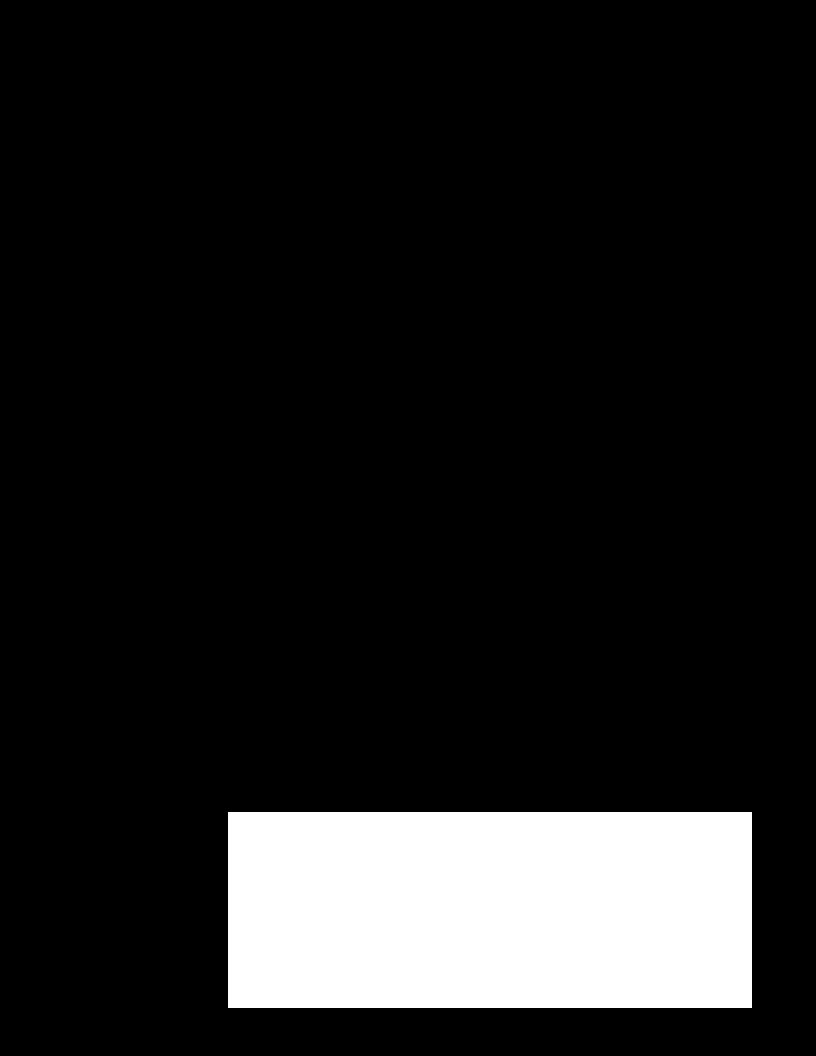table: (228, 812, 751, 1007)
